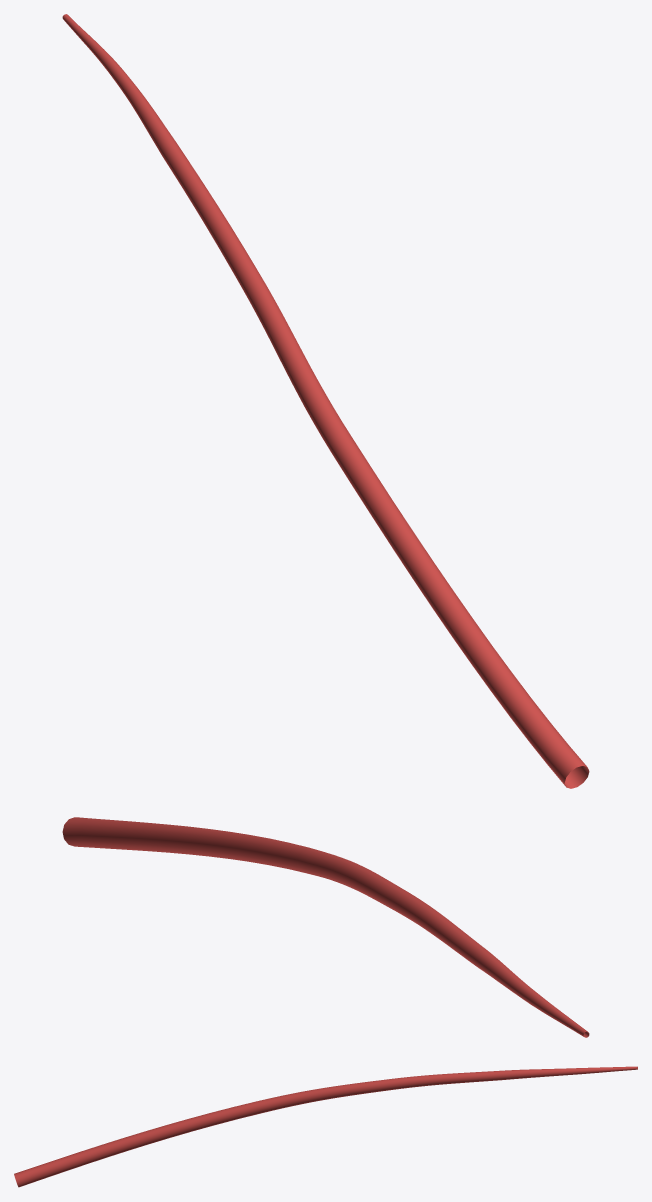
3 renders of one model, top to bottom at view 1: azimuth 30°, elevation 25°; view 2: azimuth 210°, elevation 25°; view 3: azimuth 270°, elevation 25°, orthographic. The views are drawn at different scales.
Parts seen in each view (by area): view 1: 左侧胸背动脉; view 2: 左侧胸背动脉; view 3: 左侧胸背动脉.
Boxes of the visible parts, box(x1,y1,x2,y2) form: 左侧胸背动脉: box(62, 14, 589, 788); 左侧胸背动脉: box(62, 817, 589, 1037); 左侧胸背动脉: box(14, 1066, 637, 1187).
Bounding box in the file's own units: 0.0135 × 0.0292 × 0.1124.
